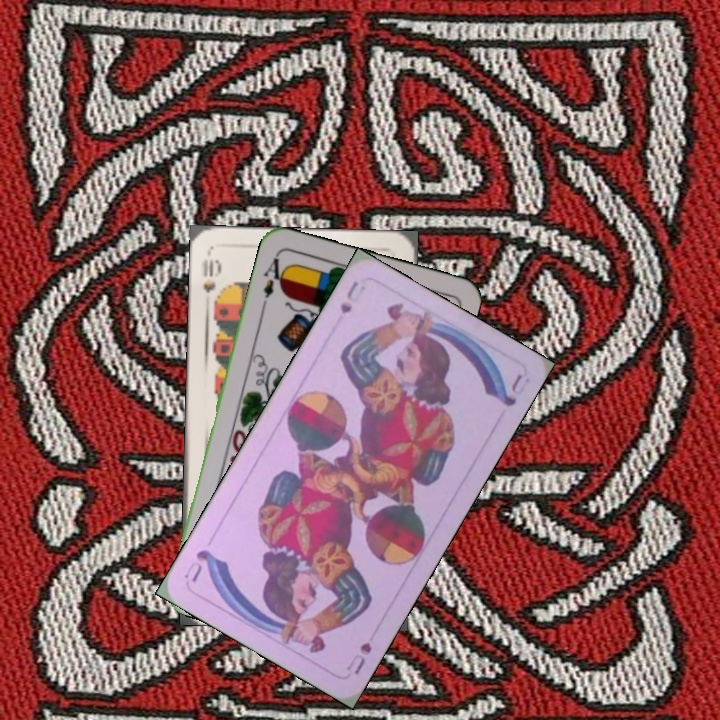EA: (258, 251, 289, 309)
S10: (198, 255, 223, 296)
SU: (335, 277, 368, 317), (342, 637, 375, 677)
